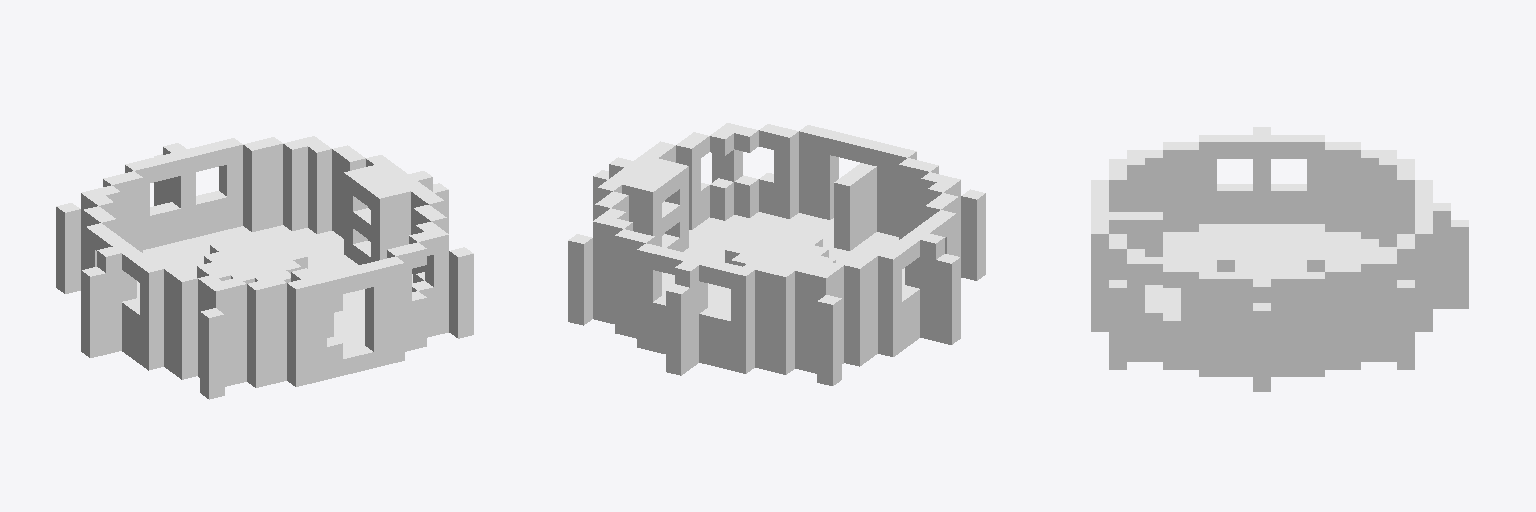
The model's file is murs_maison_campagne_pauvre_2.obj.
The picture shows the model from 3 angles: view 1: azimuth 30°, elevation 25°; view 2: azimuth 150°, elevation 25°; view 3: azimuth 270°, elevation 25°; orthographic projection.
Parts seen in each view (by area): view 1: murs_maison_campagne_pauvre_2; view 2: murs_maison_campagne_pauvre_2; view 3: murs_maison_campagne_pauvre_2.
Boxes of the visible parts, x1=… form: murs_maison_campagne_pauvre_2: x1=56, y1=136, x2=473, y2=399; murs_maison_campagne_pauvre_2: x1=568, y1=123, x2=985, y2=385; murs_maison_campagne_pauvre_2: x1=1091, y1=127, x2=1468, y2=391.
Bounding box in the file's own units: 23 × 6 × 21.